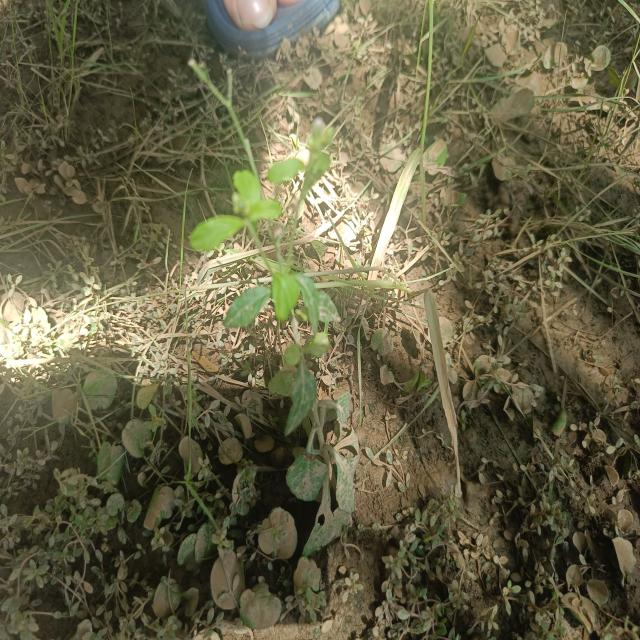weed: (186, 136, 360, 549)
